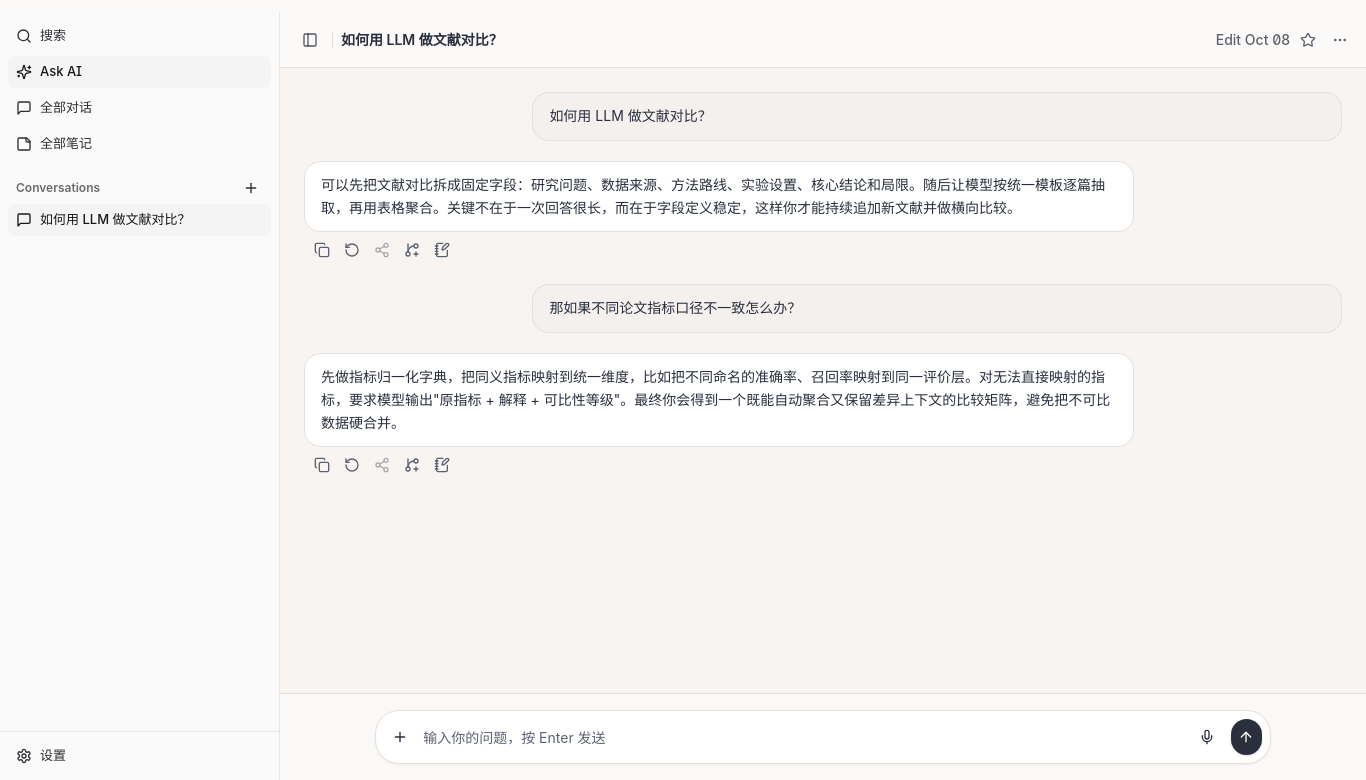
HomePage › prepares quote first and switches to graph only after sending follow-up
Click the 1st button named "Create Branch".
click(412, 250)  # box [398, 236, 426, 264]
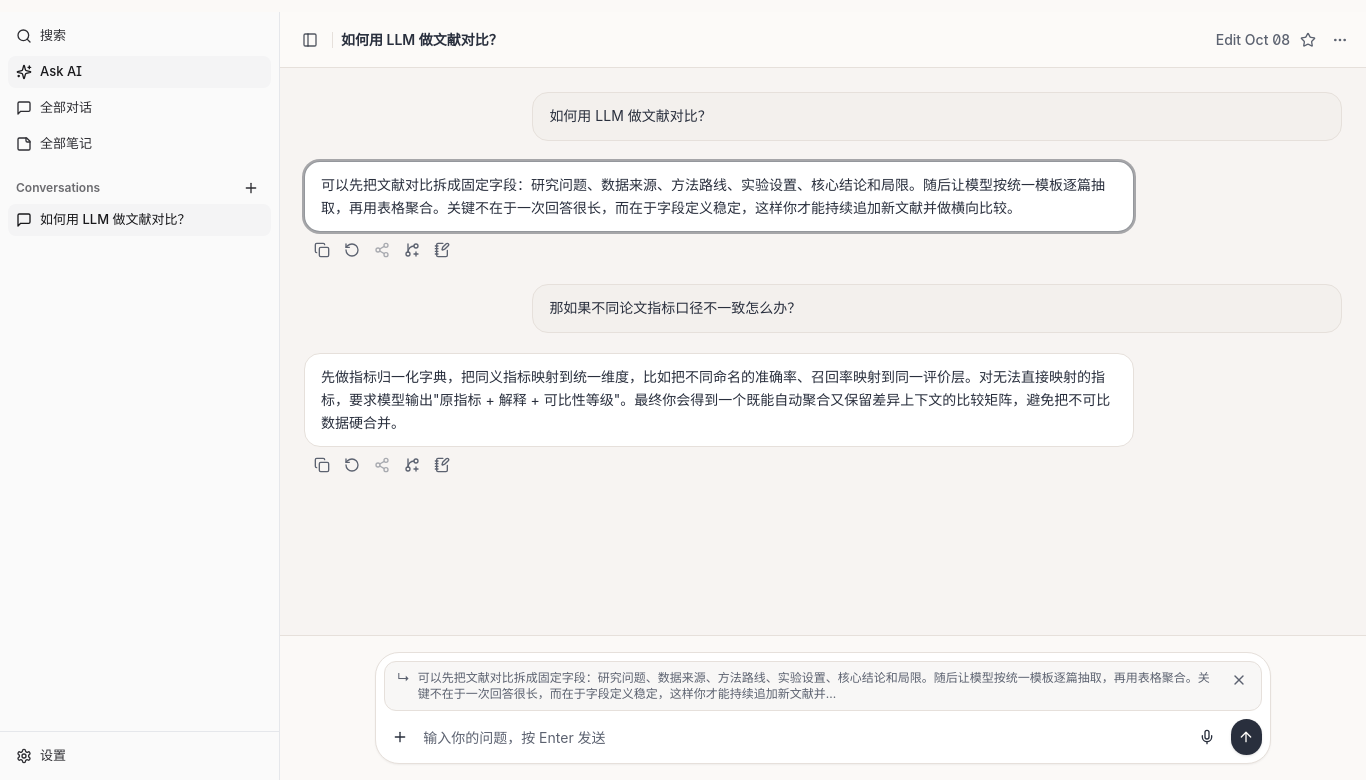
Expected: the text "可以先把文献对比拆成固定字段" is shown, [321, 176, 1105, 216]
Now the button named "Clear quoted context" is shown, box [1229, 670, 1249, 690]
Type "请继续展开这个方向" into the field named "聊天输入".
click(803, 737); type("请继续展开这个方向")  # box [423, 719, 1184, 755]
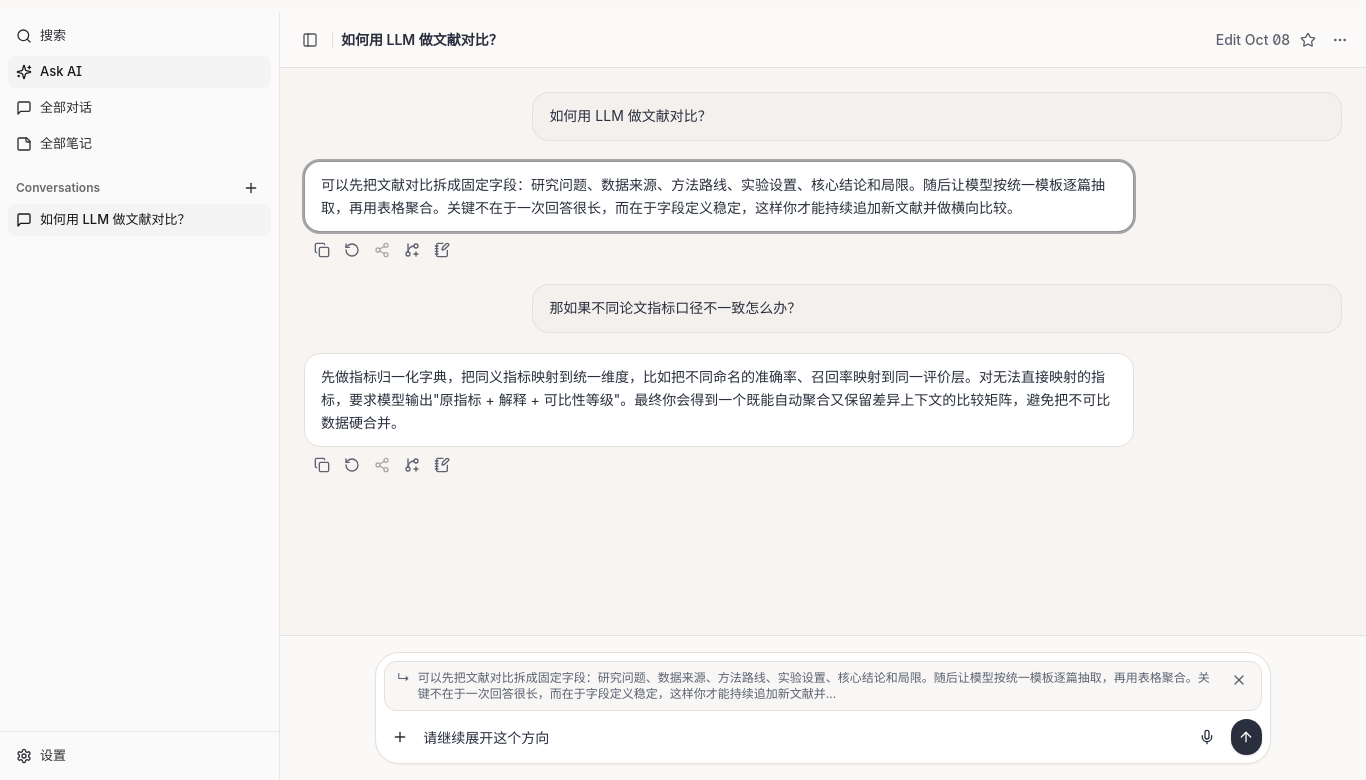
Press Enter in the field named "聊天输入", box [423, 719, 1184, 755]
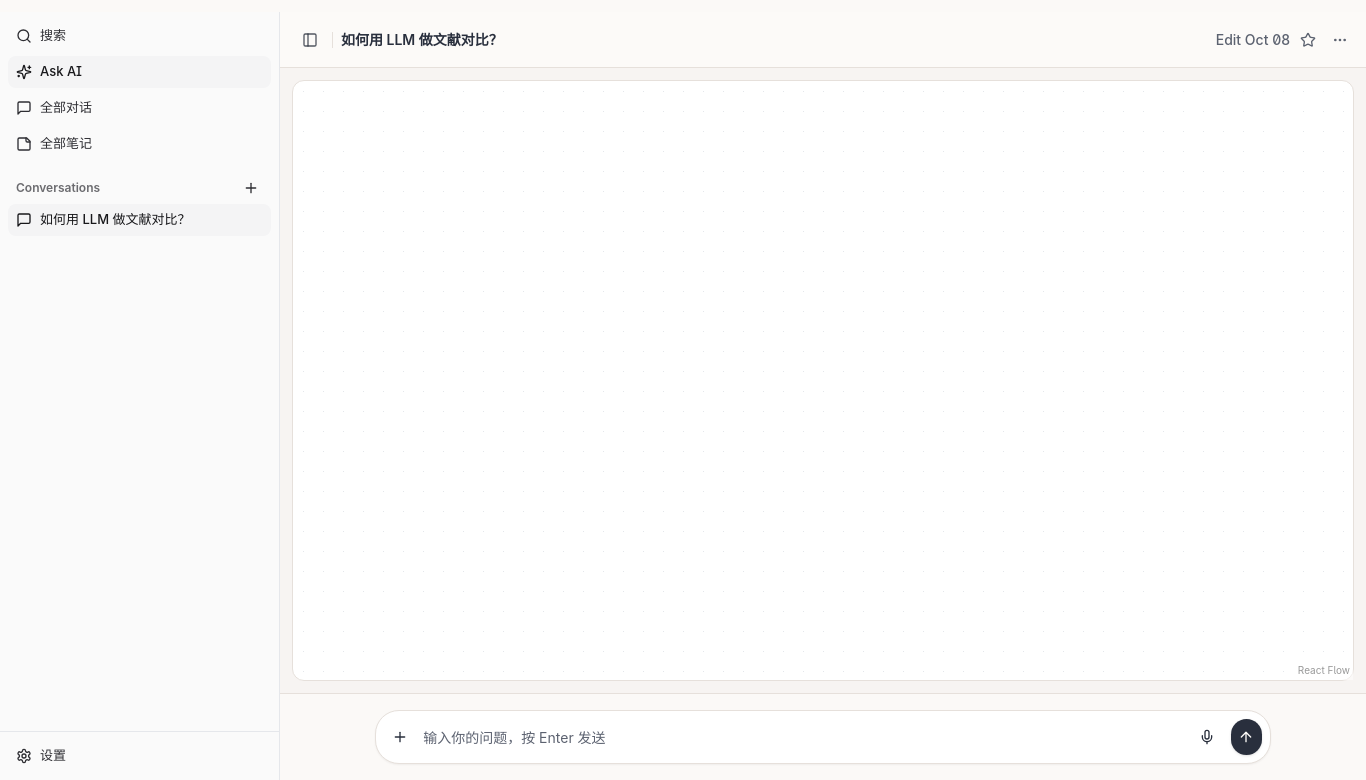
Now the element with test id "graph-canvas" is shown, box [292, 80, 1354, 681]
Now the element with test id "chat-scroll-area" is gone
